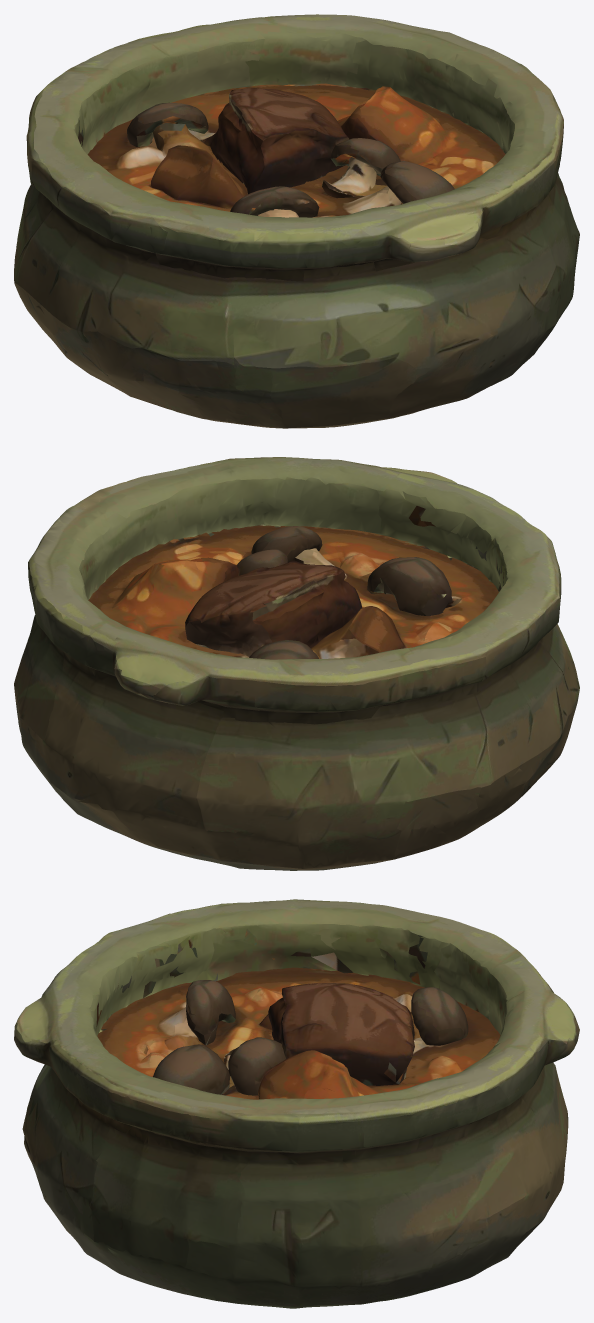
File: food_meat_mushroom_stew.glb
3 renders of one model, top to bottom at view 1: azimuth 30°, elevation 25°; view 2: azimuth 150°, elevation 25°; view 3: azimuth 270°, elevation 25°, orthographic.
Parts seen in each view (by area): view 1: food_meat_mushroom_stew; view 2: food_meat_mushroom_stew; view 3: food_meat_mushroom_stew.
Boxes of the visible parts, left/top/right/bottom form: food_meat_mushroom_stew: left=14, top=14, right=579, bottom=428; food_meat_mushroom_stew: left=14, top=457, right=579, bottom=870; food_meat_mushroom_stew: left=14, top=899, right=579, bottom=1308.
Size of the model in its own units: 0.1983 by 0.1018 by 0.2.
Materials: 1 (1 with a texture image).
